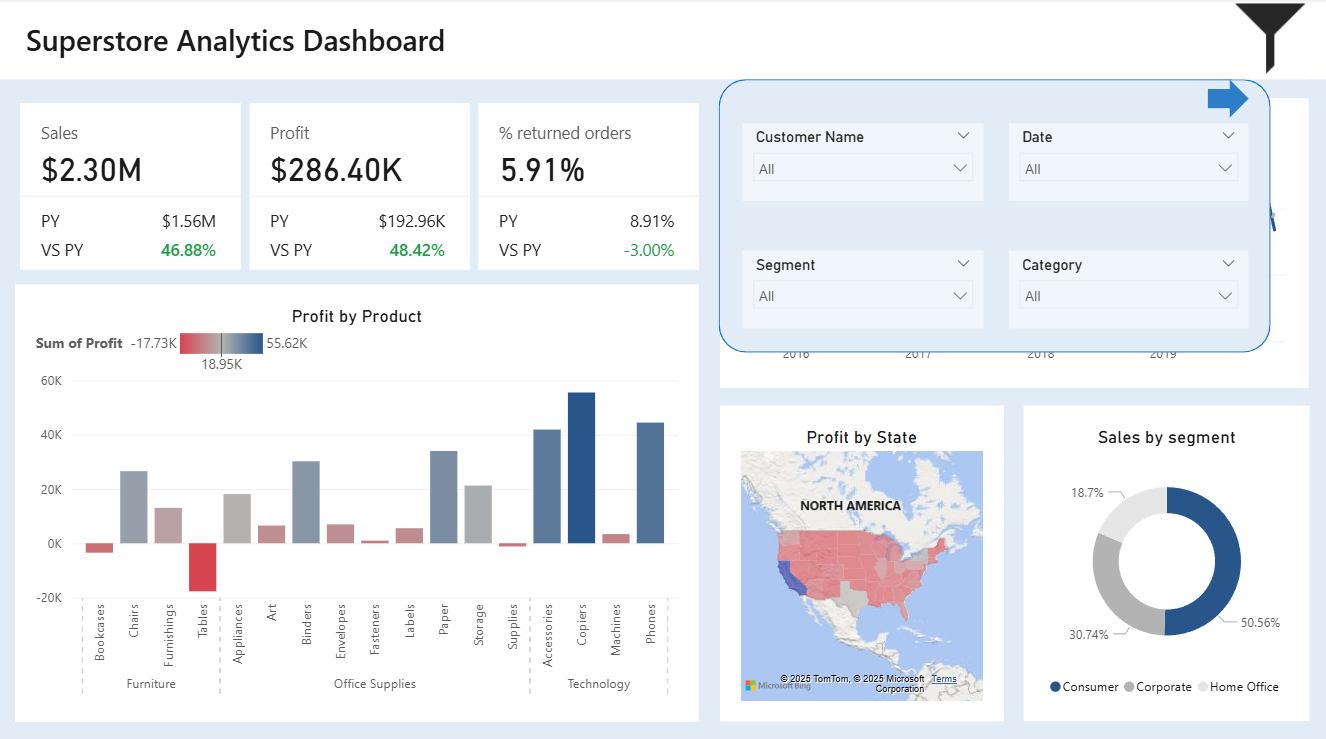

The page's visual inventory and layout, read from the dashboard file:
{"tool":"powerbi","page":{"name":"Page 1","canvas":[1280,720],"ordinal":0},"visuals":[{"type":"cardVisual","fields":{"Data":["Key measures.Sales","Key measures.Profit","Key measures.% returned orders"]},"box":[15,96.2,665,171.2],"z":0},{"type":"shape","box":[0,0,1280,78.4],"z":1000},{"type":"lineChart","title":"Sales Vs Previous Year Over Time","fields":{"Y":["Key measures.Sales","Key measures.Sales PY"],"Category":["Date Table.start of month"]},"box":[694.9,96.5,568.2,279.9],"z":2000},{"type":"columnChart","title":"Profit by Product","fields":{"Category":["Orders.Category","Orders.Sub-Category"],"Y":["Sum(Orders.Profit)"]},"box":[15,276.2,660,422.5],"z":3000},{"type":"filledMap","title":"Profit by State","fields":{"Category":["Orders.State"]},"box":[695,393.8,273.8,305],"z":4000},{"type":"donutChart","title":"Sales by segment","fields":{"Category":["Orders.Segment"],"Y":["Key measures.Sales"]},"box":[987.5,393.8,276.2,305],"z":6000},{"type":"actionButton","title":"filter","box":[1190,0,72.9,78.6],"z":7500}]}

Visuals, with their boxes in screenshot pixels (x1, y1, x2, y2), scaled from the page's 1280x720 canvas onto the 1326x739 screenshot:
cardVisual - Key measures.Sales x Key measures.Profit: BBox(16, 99, 704, 274)
shape: BBox(0, 0, 1325, 80)
"Sales Vs Previous Year Over Time" lineChart: BBox(720, 99, 1308, 386)
"Profit by Product" columnChart: BBox(16, 283, 699, 717)
"Profit by State" filledMap: BBox(720, 404, 1004, 717)
"Sales by segment" donutChart: BBox(1023, 404, 1309, 717)
"filter" actionButton: BBox(1233, 0, 1308, 81)
